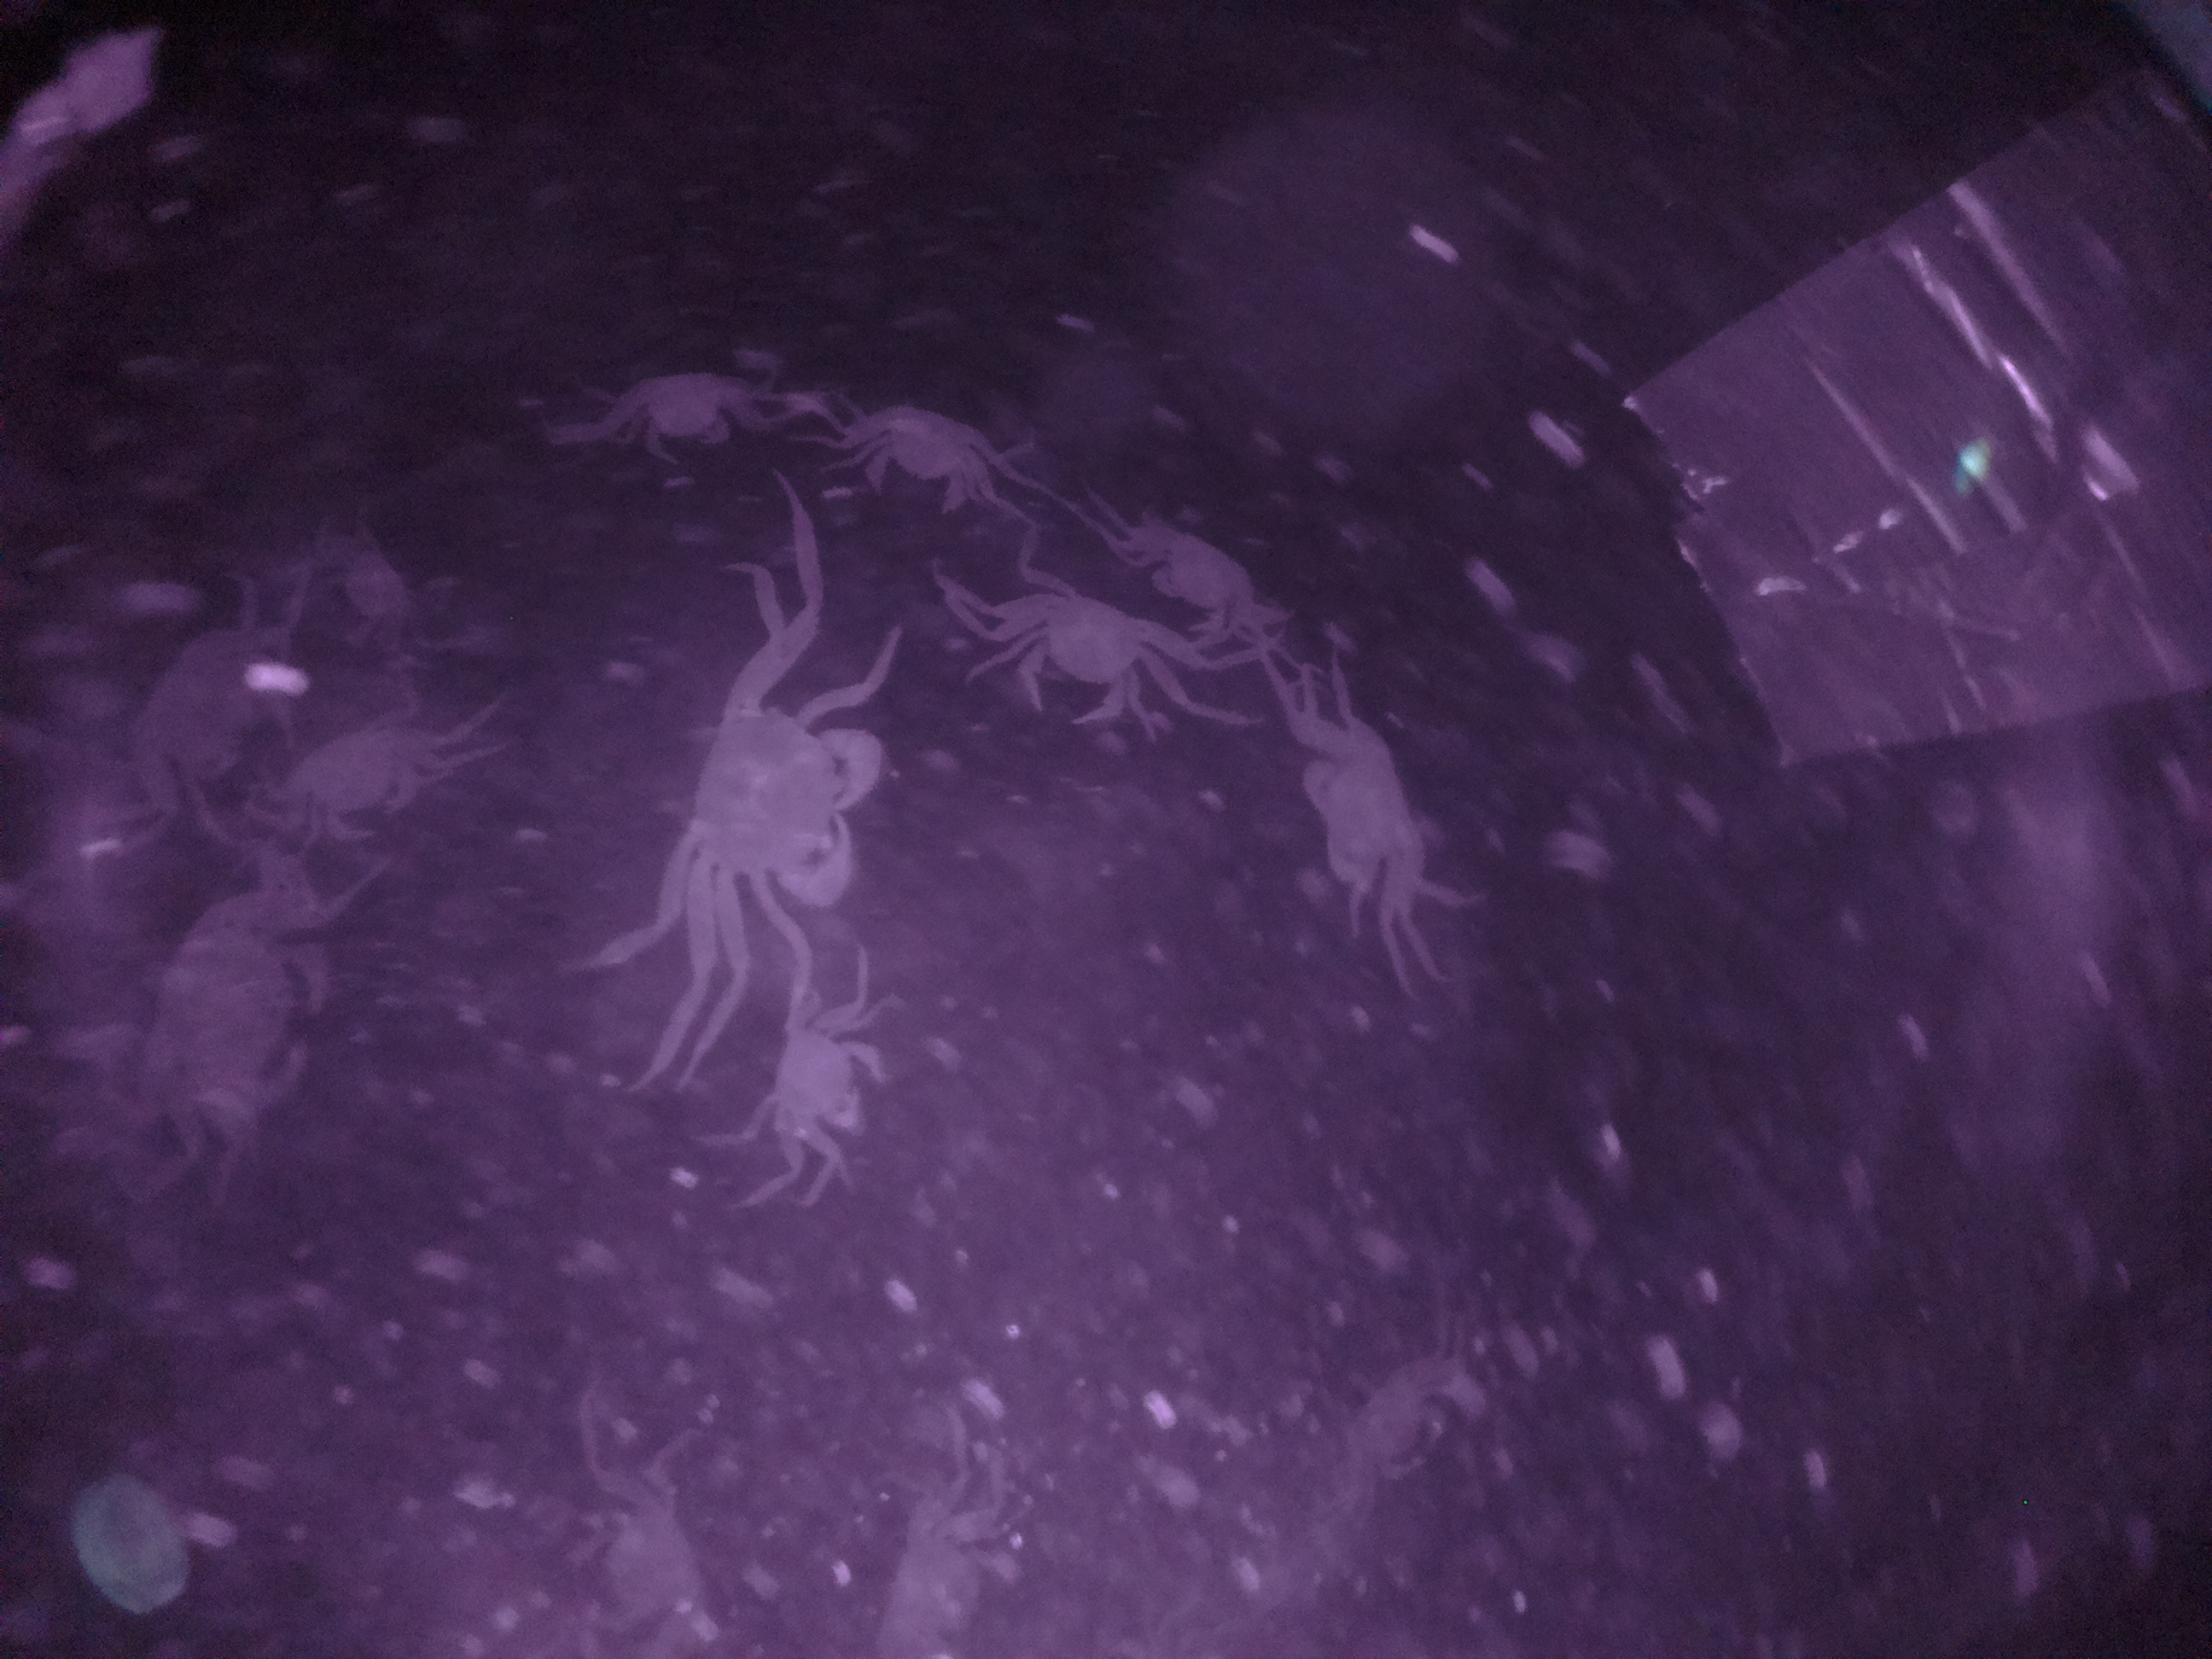Crab: (636, 683, 899, 918), (122, 892, 350, 1154), (1280, 709, 1461, 906), (993, 575, 1179, 746), (256, 711, 449, 859), (733, 1004, 909, 1157), (820, 392, 1010, 525), (603, 349, 752, 472)
